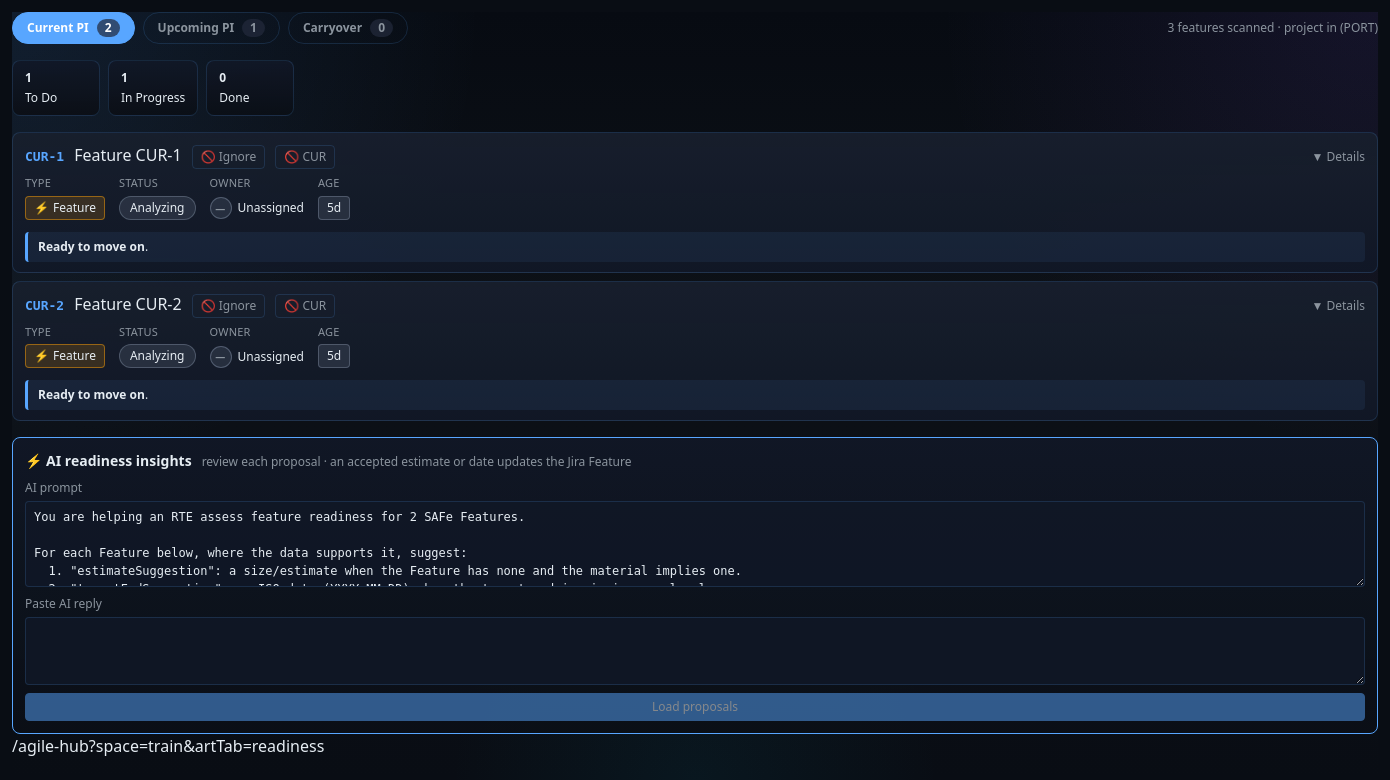
Test: ReadinessPanel › filters the listing when a status tile is clicked
What coordinates should you click on to do the following:
click the button "1 In Progress"
I would click on:
 (153, 88)
Its box is x1=108 y1=60 x2=198 y2=116.
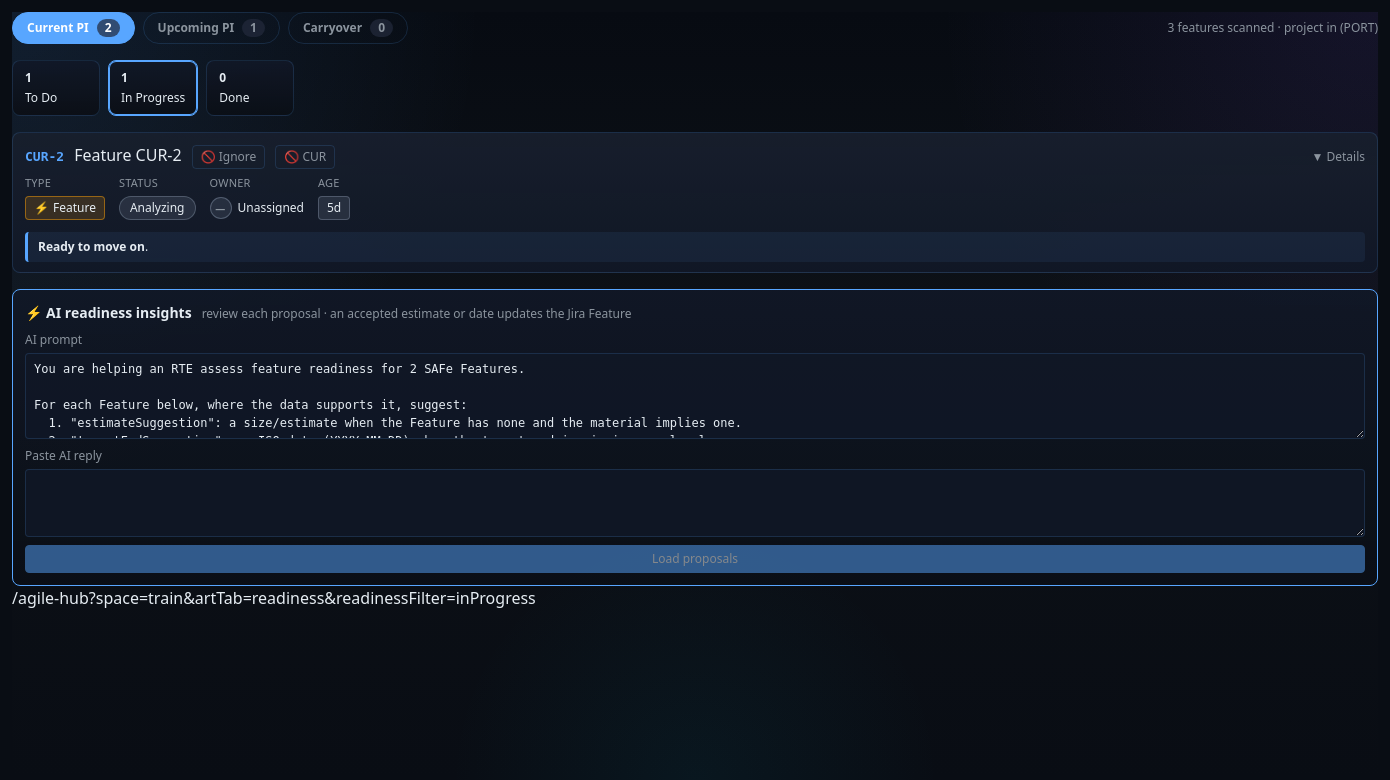
expect the link "CUR-2" is shown: met, box x1=25 y1=147 x2=64 y2=166
expect the link "CUR-1" is gone: met
